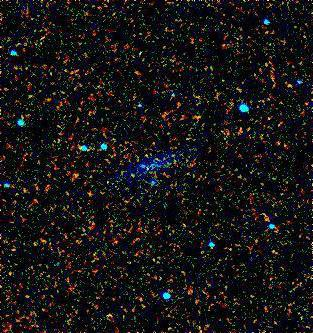star: (76, 177, 106, 207)
